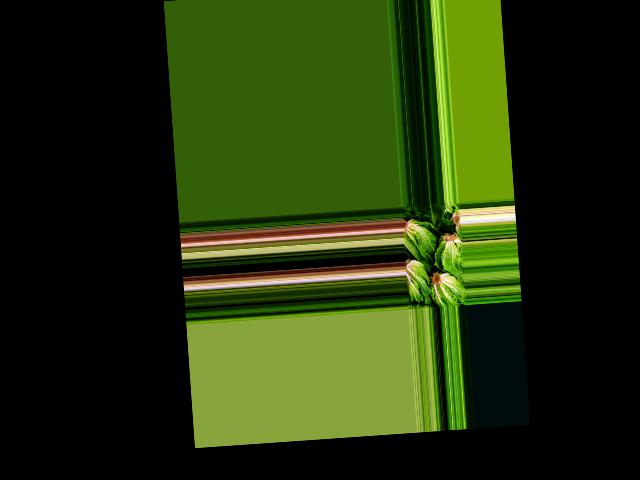lettuce: (420, 202, 446, 228)
